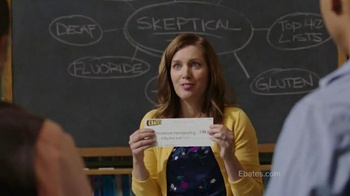bad: (165, 55, 208, 98)
